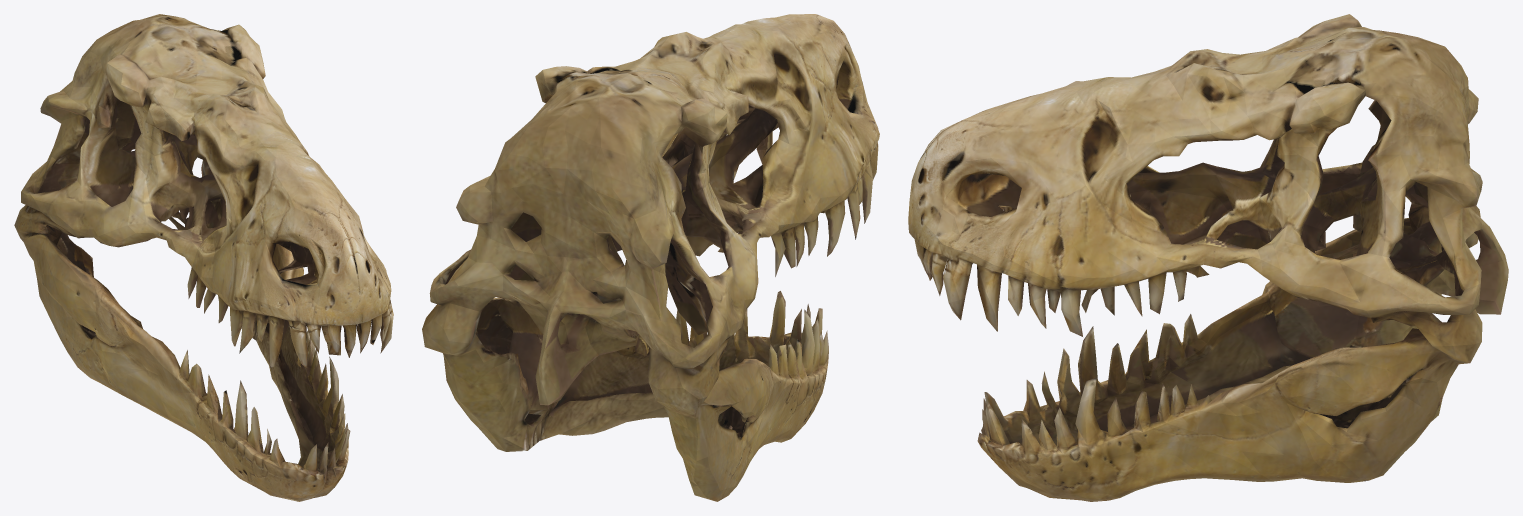
Rendered from t_rex_skull (2).glb.
The picture shows the model from 3 angles, left to right: view 1: azimuth 30°, elevation 25°; view 2: azimuth 150°, elevation 25°; view 3: azimuth 270°, elevation 25°; orthographic projection. The views are drawn at different scales.
Visible parts, largest first — view 1: temp; view 2: temp; view 3: temp.
Part boxes in pixels (x1,y1,x2,y2): temp: (14,14,393,501); temp: (422,14,879,501); temp: (908,14,1508,501).
Bounding box in the file's own units: 1.09 × 1.66 × 2.
1 material, 1 textured.
